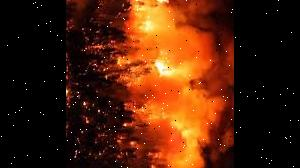fire: (66, 0, 223, 168)
